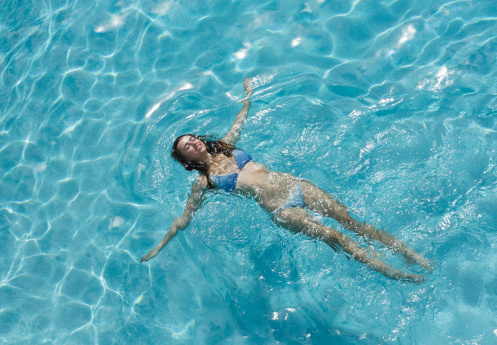deitado: (150, 109, 325, 269)
